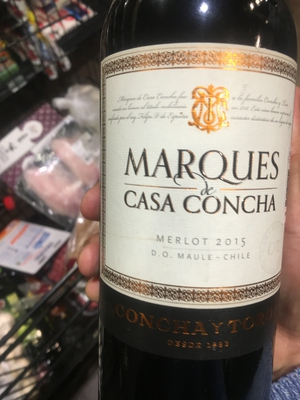marques de casa concha merlot: (77, 20, 300, 394)
